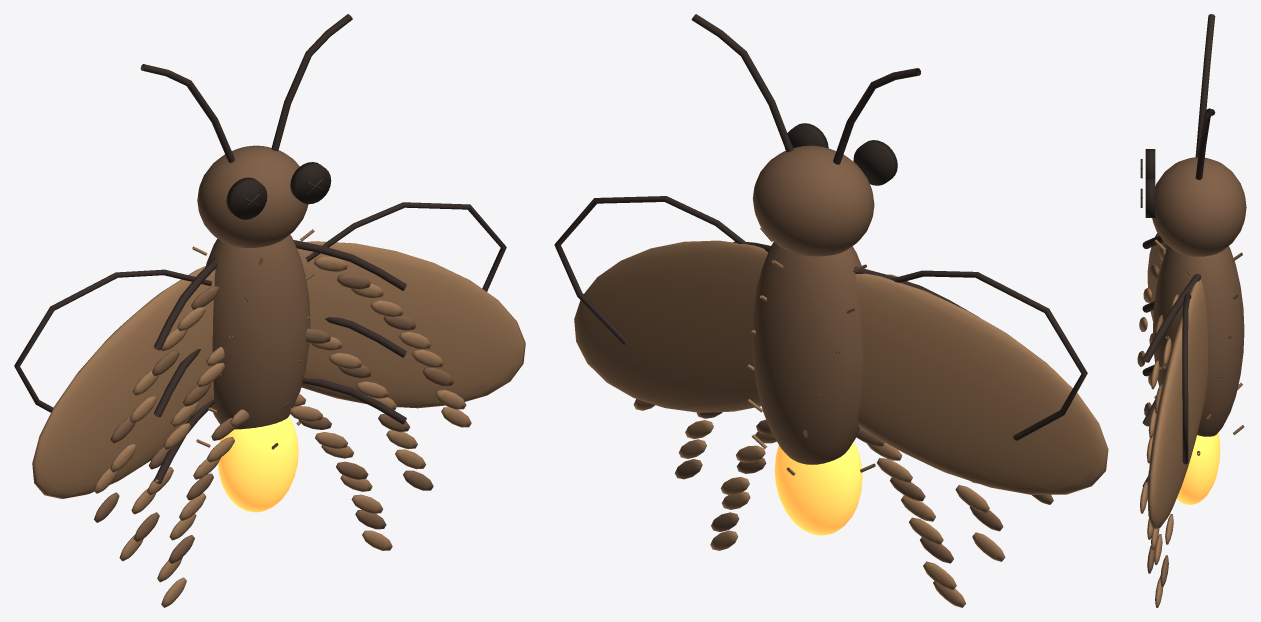
3 views of the same model, side by side, from view 1: azimuth 30°, elevation 25°; view 2: azimuth 150°, elevation 25°; view 3: azimuth 270°, elevation 25° (orthographic). The views are drawn at different scales.
Parts seen in each view (by area): view 1: wing_1, wing_-1, body, head, abdomen_glow, wing_stitch_-1, wing_stitch_1, eye_-1, eye_1, antenna_1, antenna_-1, leg_1_0 (+3 smaller); view 2: wing_-1, wing_1, body, head, abdomen_glow, wing_stitch_1, wing_stitch_-1, eye_-1, antenna_1, antenna_-1, eye_1; view 3: body, wing_1, head, abdomen_glow, wing_stitch_1, antenna_-1, leg_1_0, antenna_1, wing_-1, eye_1, eye_-1, felt_scale_57 (+6 smaller).
Boxes of the visible parts, box(x1,y1,x2,y2) form: wing_1: box(297, 241, 525, 408); wing_-1: box(32, 265, 215, 498); body: box(206, 234, 310, 429); head: box(197, 145, 308, 247); abdomen_glow: box(218, 416, 298, 512); wing_stitch_-1: box(14, 269, 211, 412); wing_stitch_1: box(305, 202, 506, 291); eye_-1: box(226, 177, 267, 219); eye_1: box(290, 162, 331, 204); antenna_1: box(271, 14, 352, 151); antenna_-1: box(140, 64, 234, 162); leg_1_0: box(293, 240, 406, 290); wing_-1: box(855, 273, 1108, 494); wing_1: box(574, 240, 768, 412); body: box(752, 242, 862, 464); head: box(752, 145, 874, 256); abdomen_glow: box(774, 441, 862, 535); wing_stitch_1: box(554, 196, 748, 344); wing_stitch_-1: box(890, 270, 1087, 440); eye_-1: box(853, 140, 897, 185); antenna_1: box(691, 14, 793, 152); antenna_-1: box(833, 68, 920, 164); eye_1: box(785, 123, 828, 150); body: box(1153, 246, 1244, 436); wing_1: box(1147, 280, 1207, 529); head: box(1152, 157, 1246, 256); abdomen_glow: box(1176, 432, 1220, 504); wing_stitch_1: box(1182, 294, 1191, 464); antenna_-1: box(1195, 14, 1215, 157); leg_1_0: box(1142, 273, 1201, 362); antenna_1: box(1195, 108, 1215, 179); wing_-1: box(1147, 233, 1164, 321); eye_1: box(1145, 178, 1155, 217); eye_-1: box(1145, 149, 1155, 178); felt_scale_57: box(1160, 555, 1168, 586).
Bounding box in the file's own units: 0.1237 × 0.1241 × 0.0249.
